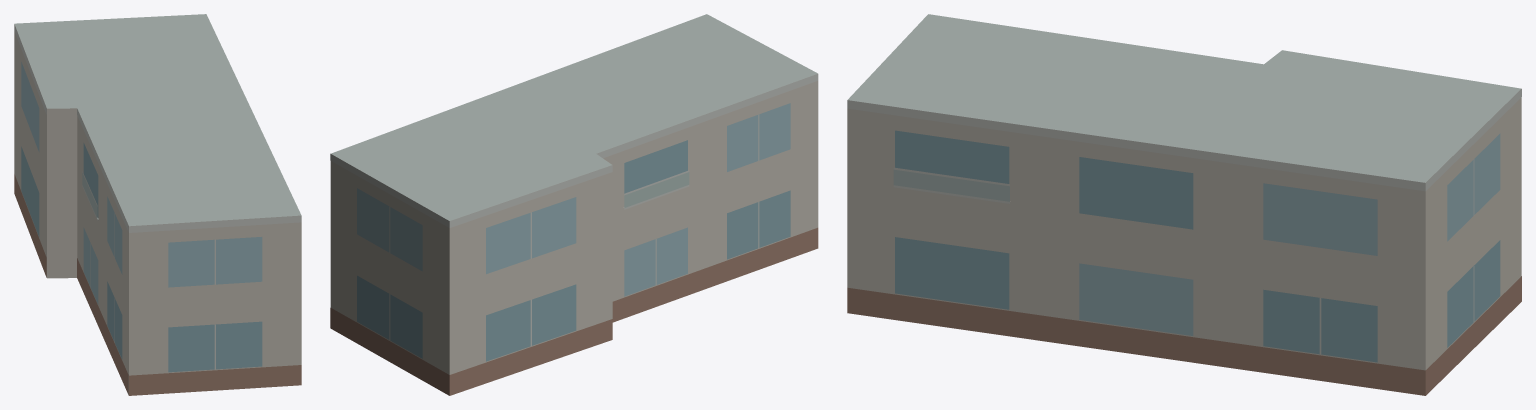
Rendered from survey-upis-32644447.glb.
3 renders of one model, left to right at view 1: azimuth 30°, elevation 25°; view 2: azimuth 150°, elevation 25°; view 3: azimuth 270°, elevation 25°, orthographic. The views are drawn at different scales.
Visible parts, largest first — view 1: survey-upis-32644447.tmp; view 2: survey-upis-32644447.tmp; view 3: survey-upis-32644447.tmp.
Part boxes in pixels (x1,y1,x2,y2): survey-upis-32644447.tmp: (14, 14, 301, 395); survey-upis-32644447.tmp: (330, 14, 818, 395); survey-upis-32644447.tmp: (847, 14, 1521, 395).
Bounding box in the file's own units: 10.38 × 6.1 × 17.51.
